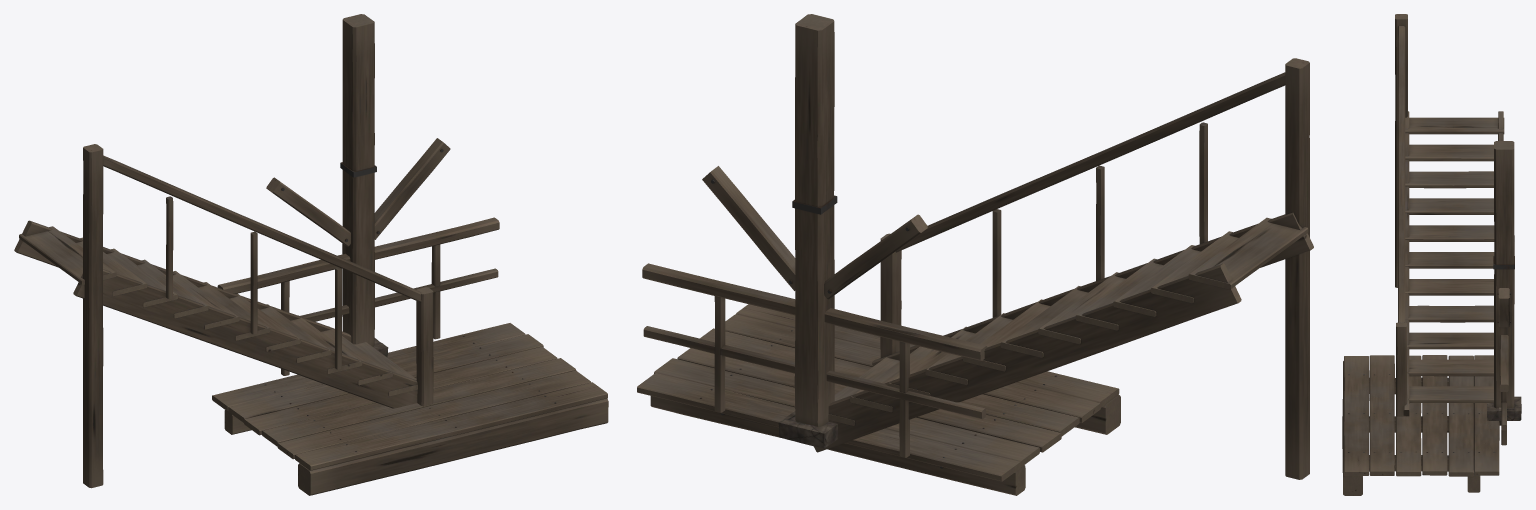
The model's file is scoutpost_kit.glb.
3 renders of one model, left to right at view 1: azimuth 30°, elevation 25°; view 2: azimuth 150°, elevation 25°; view 3: azimuth 270°, elevation 25°, orthographic. The views are drawn at different scales.
Visible parts, largest first — view 1: stair, deck_bay, post_end, post, rail_bay; view 2: stair, deck_bay, post_end, rail_bay, post; view 3: stair, deck_bay, post, post_end, rail_bay.
Part boxes in pixels (bbox=[...]): stair: bbox=[14, 144, 434, 488]; deck_bay: bbox=[212, 323, 608, 495]; post_end: bbox=[342, 17, 450, 357]; post: bbox=[266, 14, 450, 351]; rail_bay: bbox=[217, 217, 499, 375]; stair: bbox=[814, 58, 1313, 479]; deck_bay: bbox=[637, 304, 1120, 495]; post_end: bbox=[702, 14, 836, 445]; rail_bay: bbox=[642, 263, 987, 457]; post: bbox=[702, 20, 927, 448]; stair: bbox=[1395, 14, 1504, 425]; deck_bay: bbox=[1342, 355, 1499, 495]; post: bbox=[1487, 141, 1521, 418]; post_end: bbox=[1487, 141, 1521, 420]; rail_bay: bbox=[1499, 335, 1508, 445].
Bounding box in the file's own units: 4.99 × 3.52 × 1.95.
Materials: 1 (1 with a texture image).
